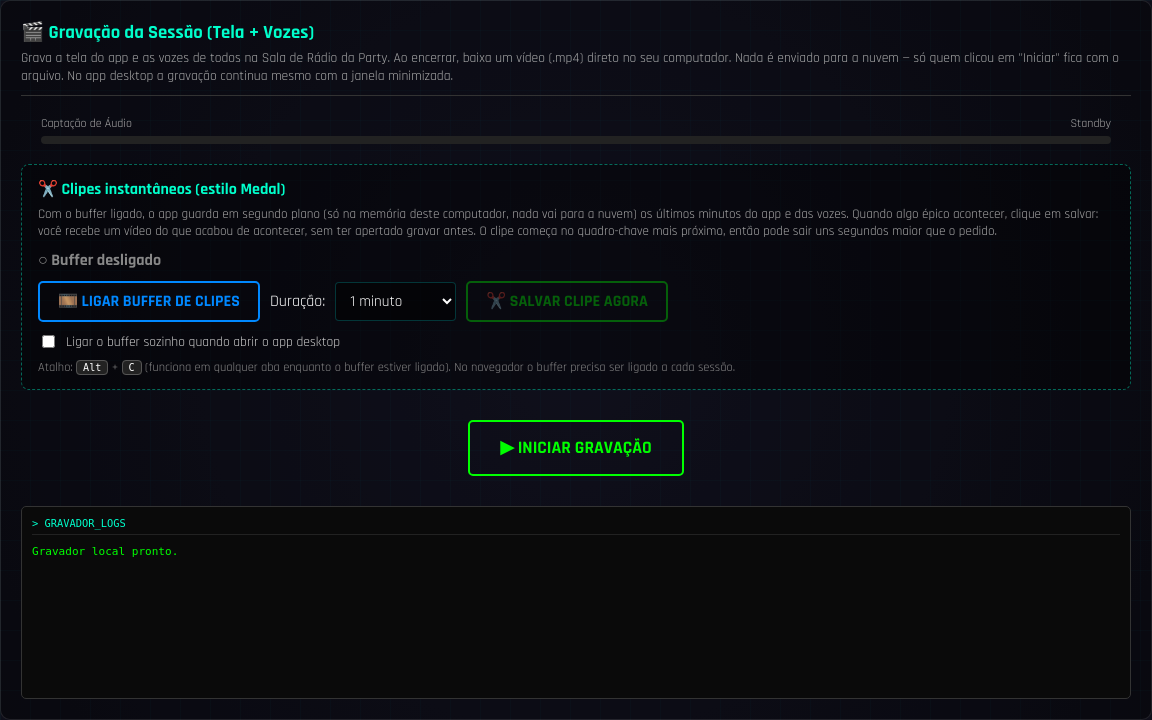
GravadorPanel: aviso "Sem captura de tela" › aparece quando a captura de tela e recusada
Click the button "▶ INICIAR GRAVAÇÃO": (576, 448) top-left (468, 420), bottom-right (684, 476)
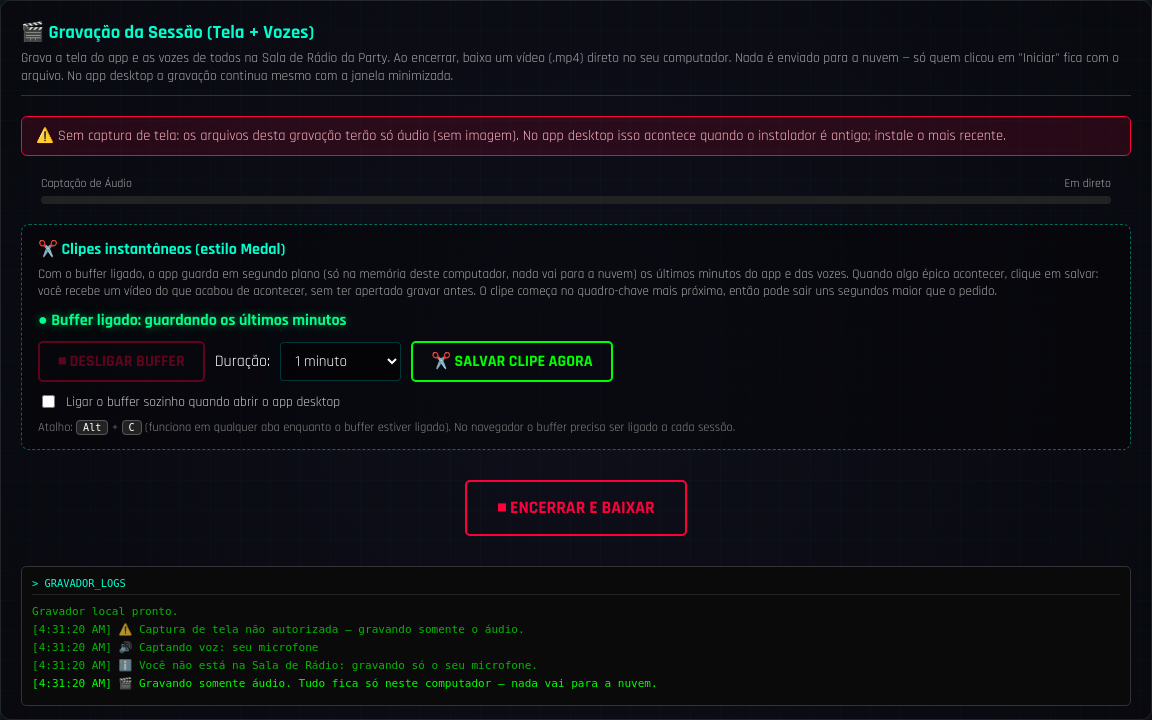
Expected: the message is shown, top-left (21, 116), bottom-right (1131, 156)
